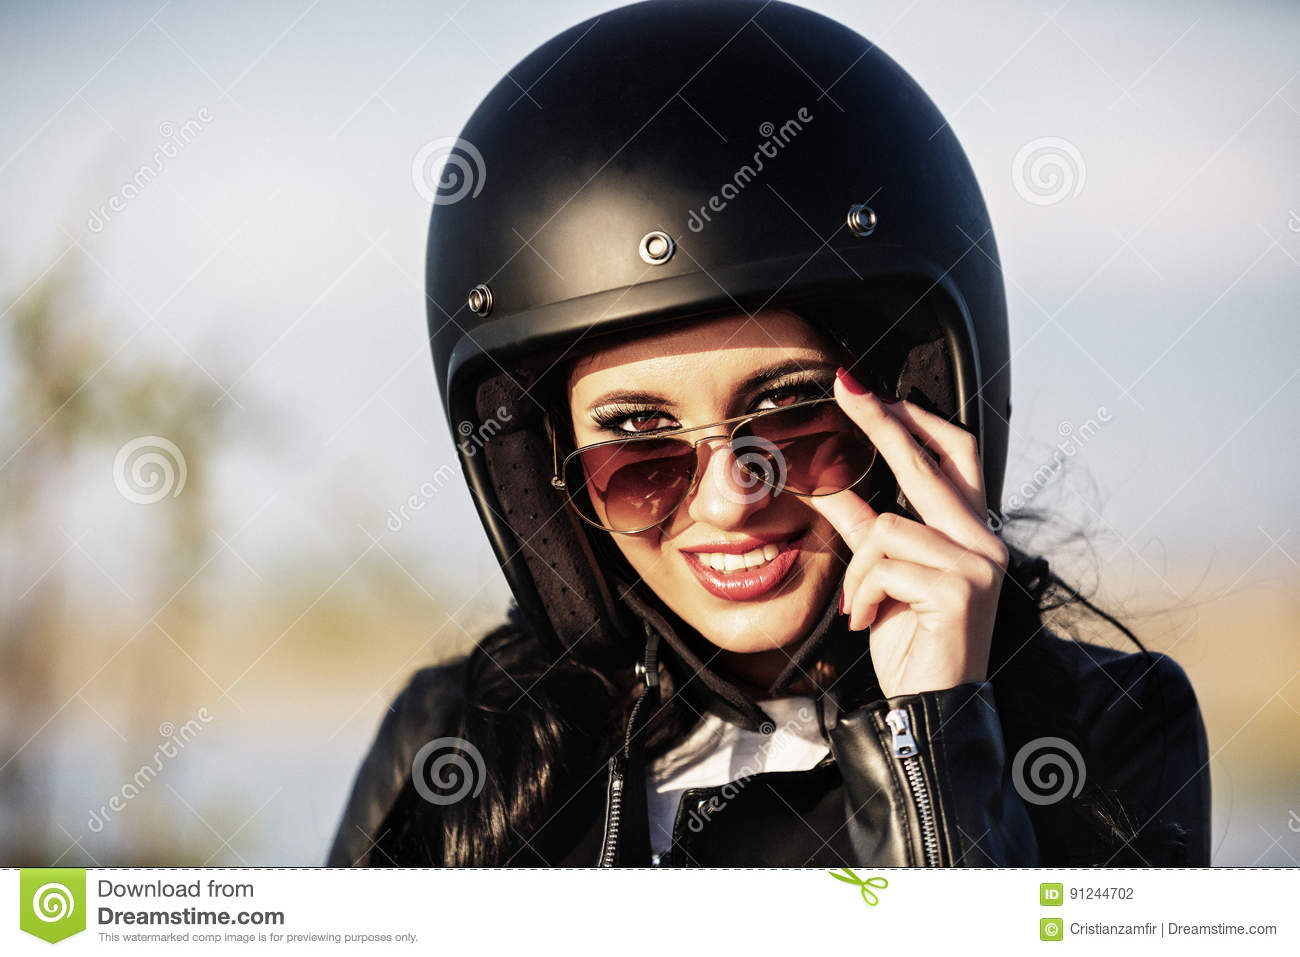helmet: (426, 64, 1018, 570)
